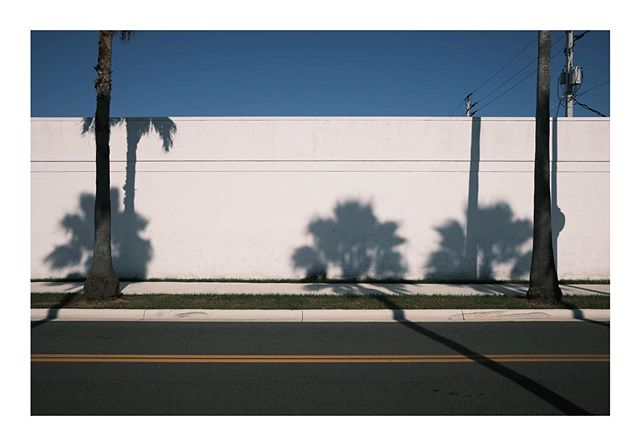sidewalk: (31, 272, 608, 320)
sky: (32, 28, 603, 110)
street: (32, 320, 608, 419)
wall: (27, 116, 612, 280)
